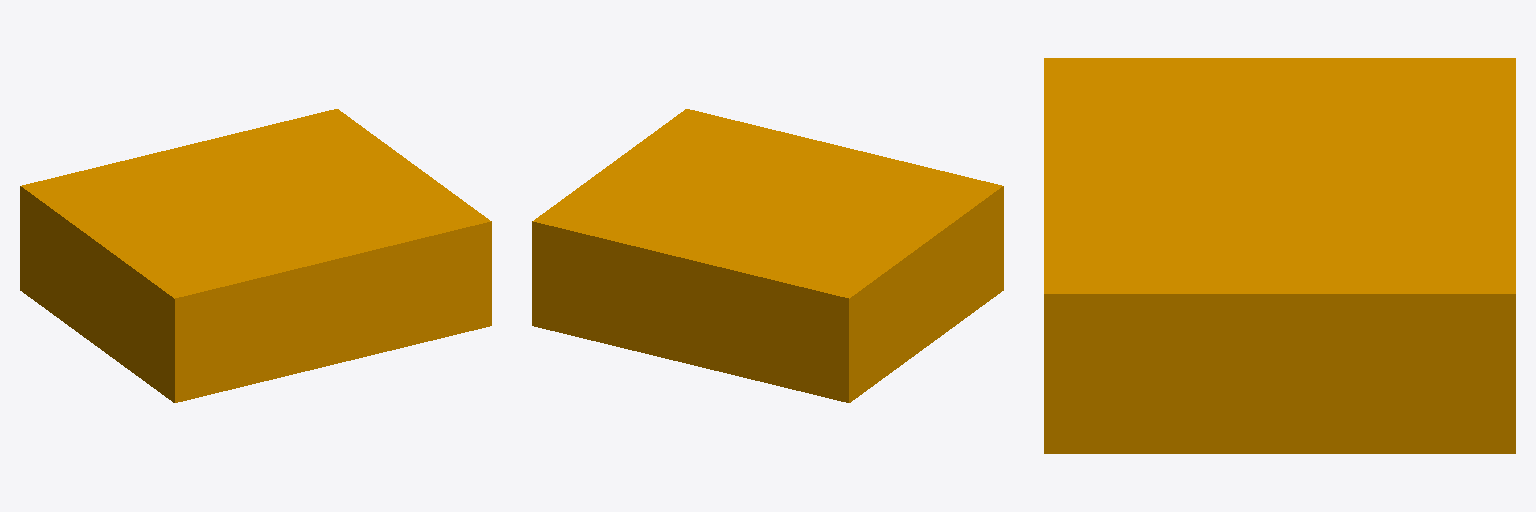
robot.urdf — 2x2:
<?xml version='1.0' encoding='UTF-8'?>
<robot name="2x2">
  <link name="base_link">
    <inertial>
      <origin xyz="0.0 0.0 0.0" rpy="0.0 0.0 0.0"/>
      <mass value="0.01"/>
      <inertia ixx="0.1" ixy="0.0" ixz="0.0" iyy="0.1" iyz="0.0" izz="0.1"/>
    </inertial>
    <visual>
      <geometry>
        <box size="0.038 0.032 0.012"/>
      </geometry>
      <material name=""/>
      <origin xyz="0.0 0.0 0.0" rpy="0.0 0.0 0.0"/>
    </visual>
    <collision>
      <geometry>
        <box size="0.038 0.032 0.012"/>
      </geometry>
      <origin xyz="0.0 0.0 0.0" rpy="0.0 0.0 0.0"/>
    </collision>
  </link>
  <material name="">
    <color rgba="0.111 0.512 0.734 1.   "/>
  </material>
  <contact>
    <lateral_friction value="1.0"/>
    <rolling_friction value="0.0"/>
    <contact_cfm value="0.0"/>
    <contact_erp value="1.0"/>
  </contact>
</robot>

--- Facts derived from the render (not from the file) ---
The picture shows the robot from 3 angles, left to right: view 1: azimuth 30°, elevation 25°; view 2: azimuth 150°, elevation 25°; view 3: azimuth 270°, elevation 25°; orthographic projection.
Model 2x2 with 1 links and 0 joints (none), rooted at base_link, posed every joint at zero.
Links seen in each view (by area): view 1: base_link; view 2: base_link; view 3: base_link.
Link boxes in pixels (box(x1,y1,x2,y2)): base_link: box(20, 109, 491, 402); base_link: box(532, 109, 1003, 402); base_link: box(1044, 58, 1515, 453).
Bounding box of the posed robot: 0.038 × 0.032 × 0.012 m (x, y, z).
Geometry: primitives only (box / cylinder / sphere), no mesh files.